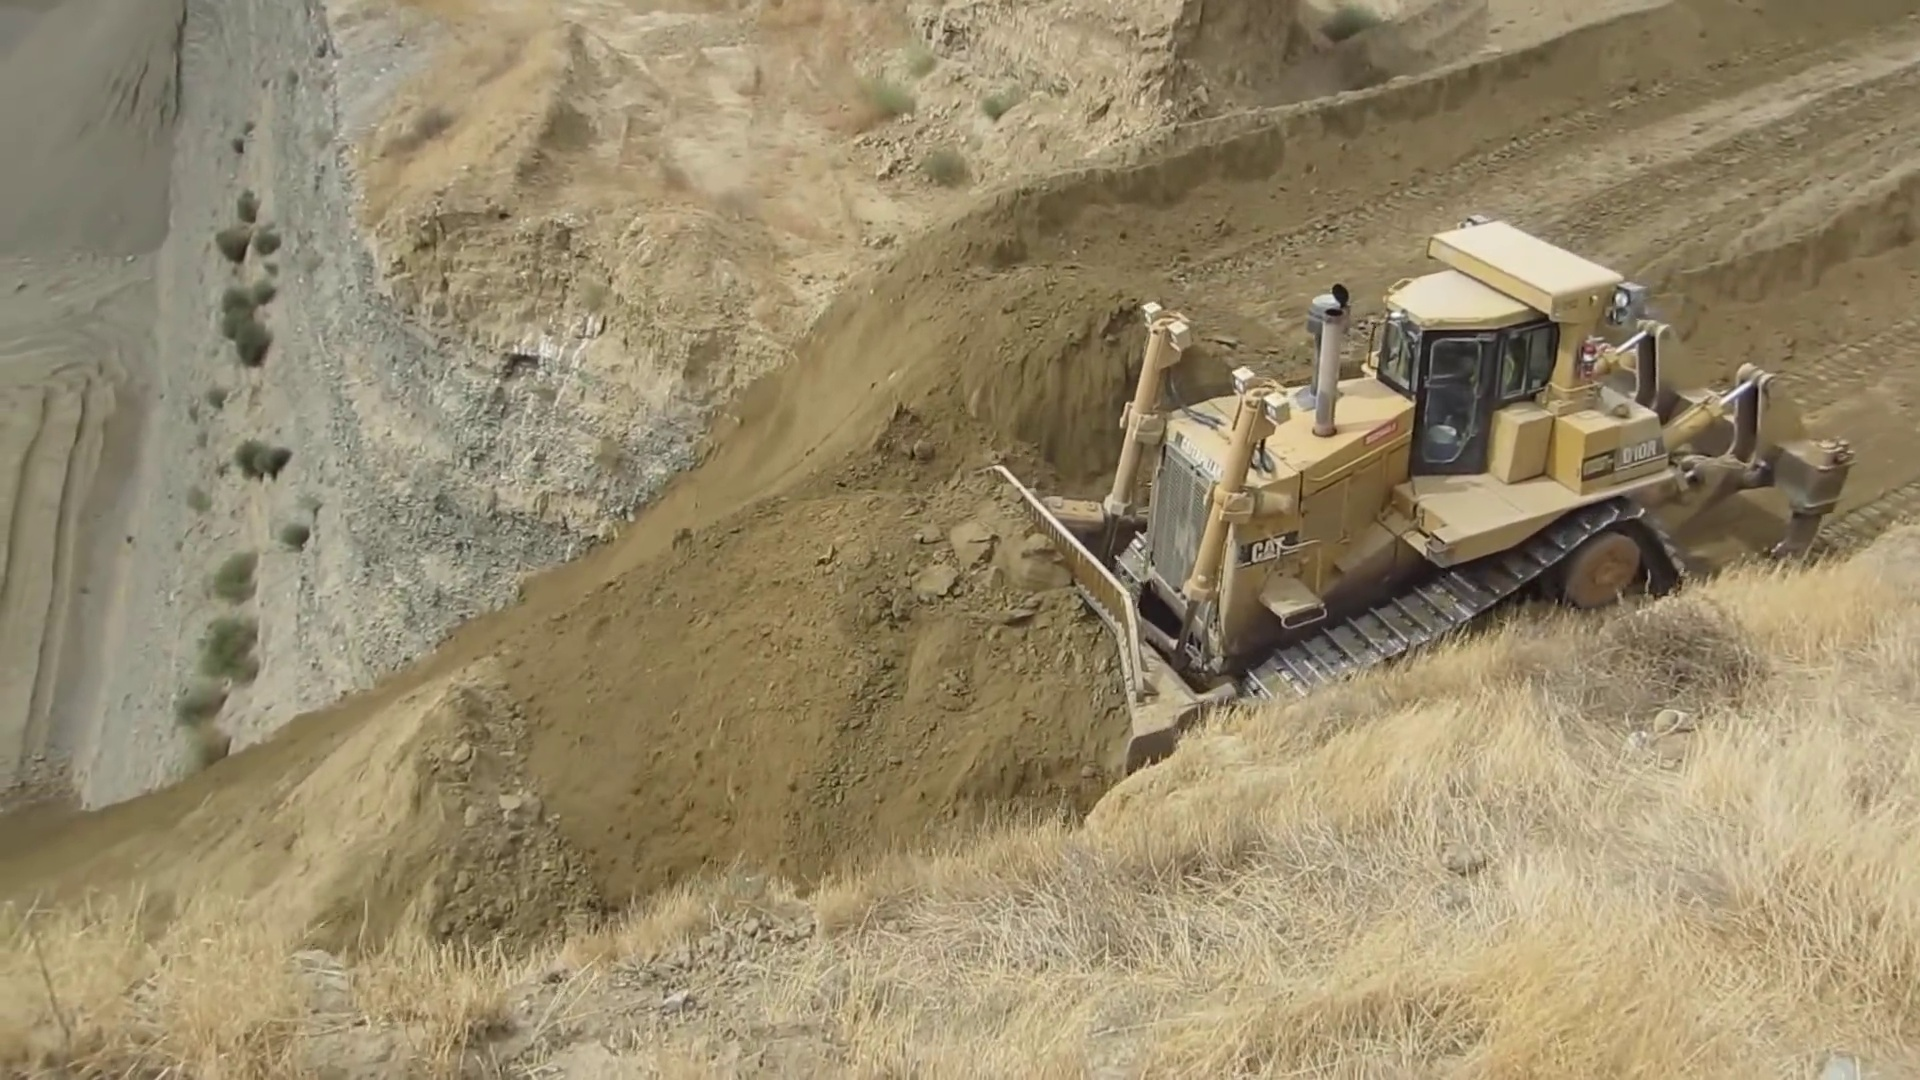bulldozer: (785, 211, 1855, 778)
